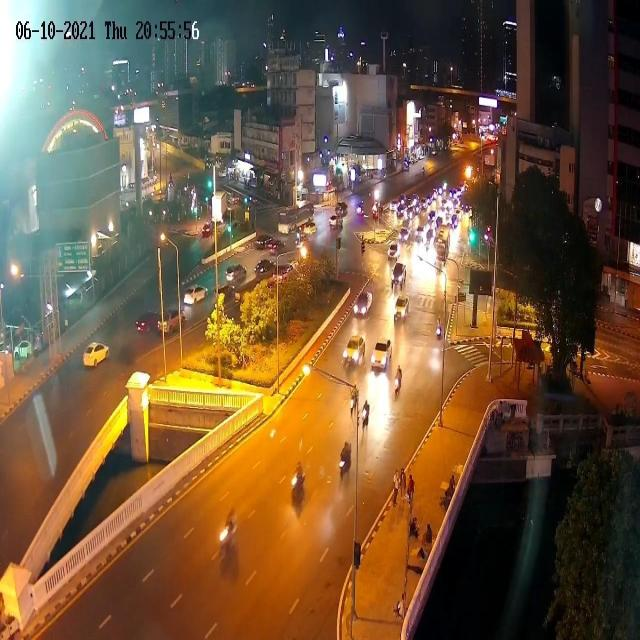Bus: (278, 201, 314, 234)
Car: (342, 333, 366, 371), (82, 341, 110, 367), (371, 337, 392, 371), (158, 309, 185, 332), (353, 289, 373, 320), (184, 284, 208, 304), (136, 311, 158, 332), (394, 294, 409, 323), (225, 265, 248, 283), (392, 263, 406, 290), (253, 258, 276, 273), (388, 241, 400, 263), (399, 225, 410, 243), (329, 215, 344, 228), (415, 227, 425, 244), (396, 204, 405, 218), (202, 225, 212, 237), (428, 210, 436, 224), (449, 215, 458, 227), (405, 208, 415, 218), (421, 197, 428, 211), (390, 199, 398, 210), (414, 202, 421, 214)
Cycle: (220, 505, 237, 564), (290, 459, 306, 508), (338, 439, 352, 488), (394, 364, 403, 404), (361, 397, 370, 436), (351, 383, 358, 421), (437, 315, 442, 344)
Truck: (434, 225, 450, 272)
